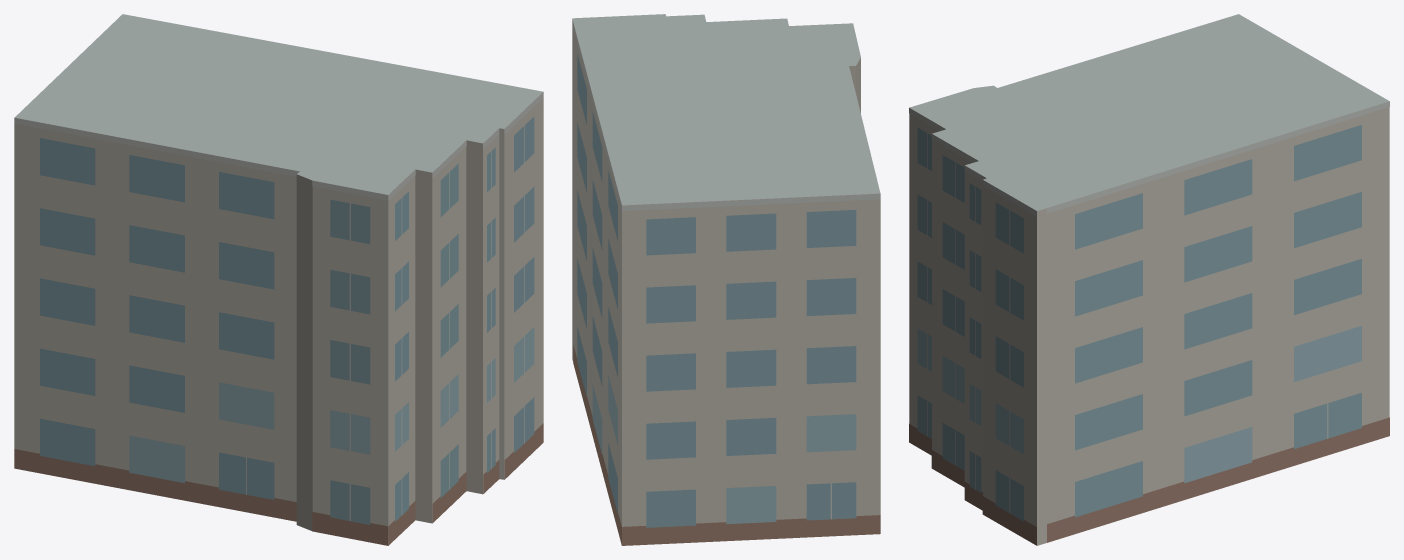
The model's file is survey-upis-32684707.glb.
3 renders of one model, left to right at view 1: azimuth 30°, elevation 25°; view 2: azimuth 150°, elevation 25°; view 3: azimuth 270°, elevation 25°, orthographic. The views are drawn at different scales.
Parts seen in each view (by area): view 1: survey-upis-32684707.tmp; view 2: survey-upis-32684707.tmp; view 3: survey-upis-32684707.tmp.
Boxes of the visible parts, <box> form: survey-upis-32684707.tmp: <box>14,14,543,545</box>; survey-upis-32684707.tmp: <box>572,14,880,545</box>; survey-upis-32684707.tmp: <box>909,14,1389,545</box>.
Size of the model in its own units: 18.19 by 14.4 by 18.75.
